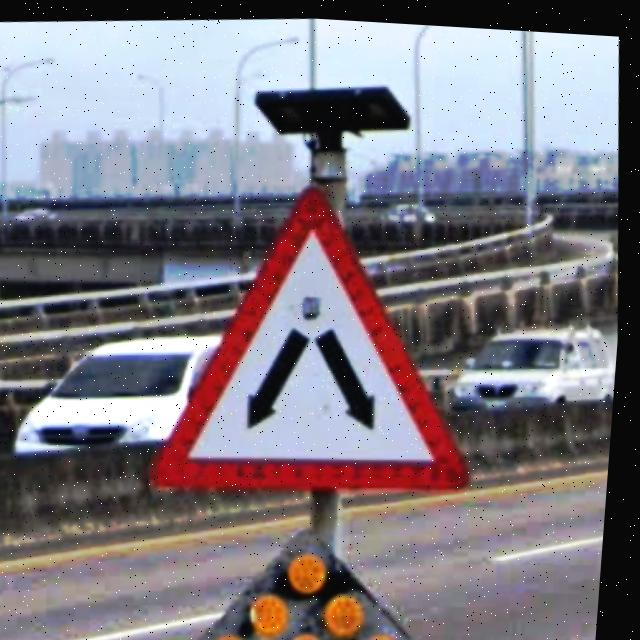diverge: (131, 158, 495, 512)
